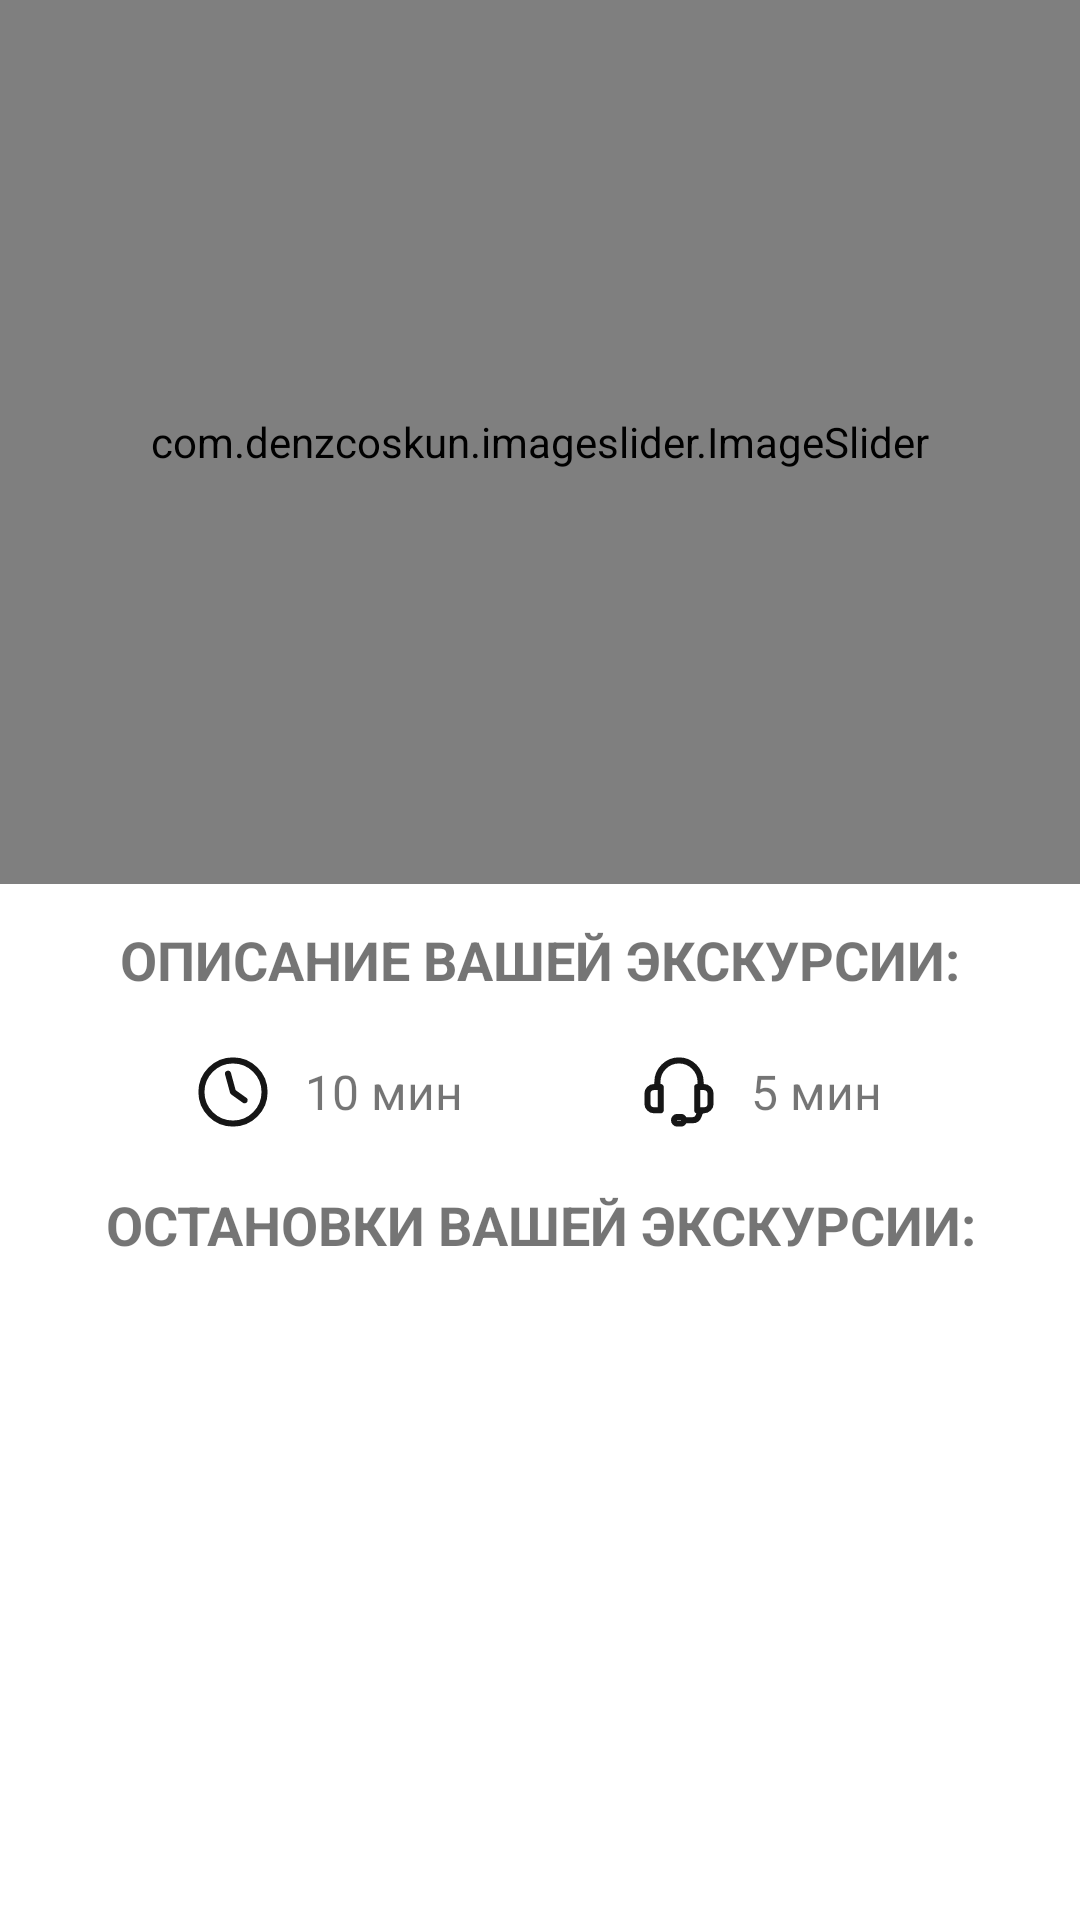

Named icons in this screenshot (1080×1920) and their centers, (x=x, y=y):
head phone: (x=679, y=1092)
time: (x=233, y=1092)
